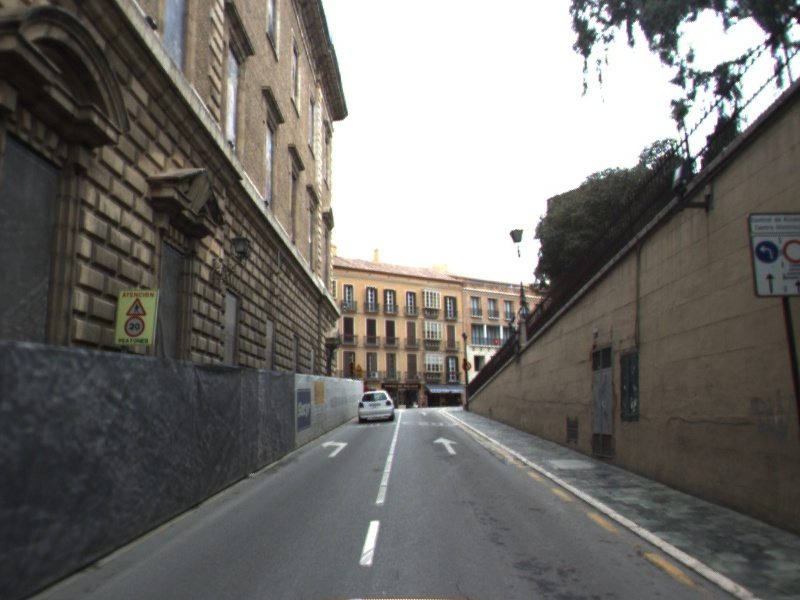LEFT: (319, 438, 351, 459)
STRAIGHT: (431, 434, 460, 456)
